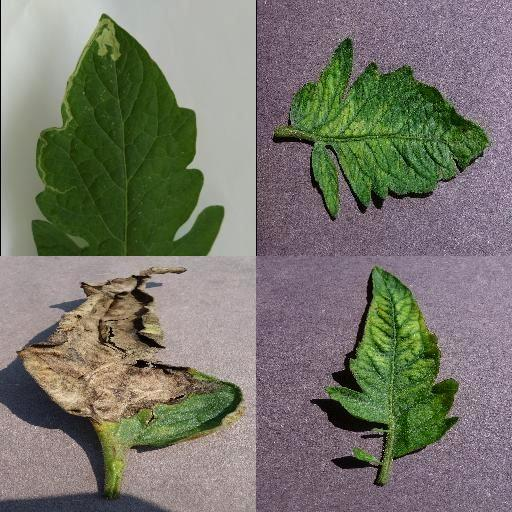Late Blight: (15, 265, 247, 453)
Leaf Miner: (30, 12, 224, 256)
Mosaic Virus: (287, 38, 488, 220), (322, 265, 462, 459)
